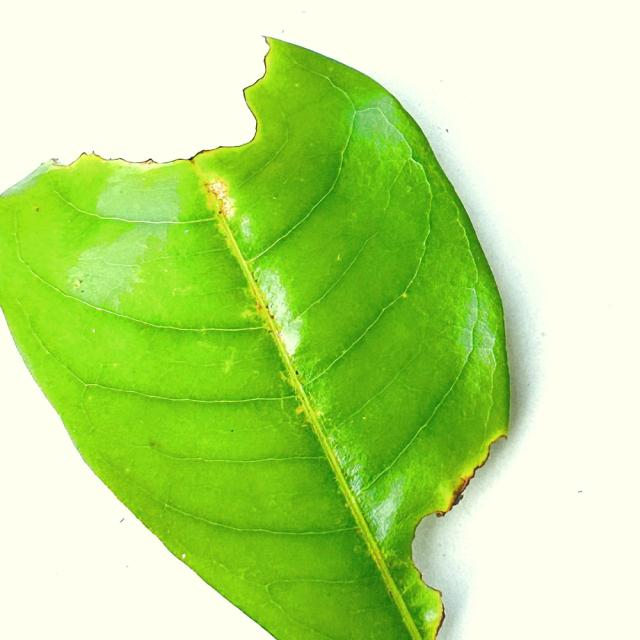Deficiency Leaf: (416, 436, 538, 639), (0, 93, 250, 189)
Lychee: (0, 36, 511, 639)
